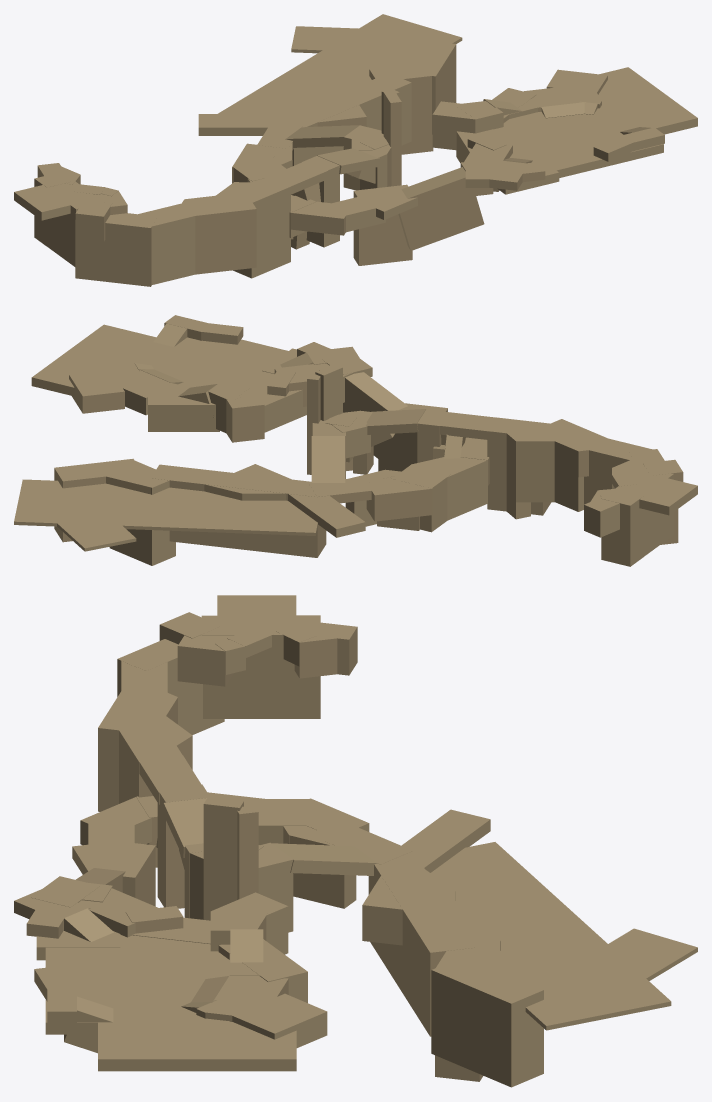
File: p_FloorsEntrance.fbx
The picture shows the model from 3 angles, top to bottom: view 1: azimuth 30°, elevation 25°; view 2: azimuth 150°, elevation 25°; view 3: azimuth 270°, elevation 25°; orthographic projection. The views are drawn at different scales.
Parts seen in each view (by area): view 1: Floor_03__99_, Floor_03__2_, Floor_03__79_, Floor_03__81_, Floor_03__54_, Floor_03__59_, Floor_03__39_, Floor_03__78_, Floor_03__80_, Floor_03__61_, Floor_03__73_, Floor_03__74_ (+34 smaller); view 2: Floor_03__99_, Floor_03__59_, Floor_03__2_, Floor_03__39_, Floor_03__90_, Floor_03__79_, Floor_03__35_, Floor_03__78_, Floor_03__57_, Floor_03__84_, Floor_03__56_, Floor_03__73_ (+42 smaller); view 3: Floor_03__99_, Floor_03__74_, Floor_03__2_, Floor_03__39_, Floor_03__59_, Floor_03__82_, Floor_03__79_, Floor_03__114_, Floor_03__81_, Floor_03__110_, Floor_03__72_, Floor_03__62_ (+43 smaller).
Part boxes in pixels (<box>): Floor_03__99_: <box>218,14,462,113</box>; Floor_03__2_: <box>497,100,663,177</box>; Floor_03__79_: <box>184,193,256,274</box>; Floor_03__81_: <box>75,213,157,286</box>; Floor_03__54_: <box>398,167,484,250</box>; Floor_03__59_: <box>272,73,411,165</box>; Floor_03__39_: <box>598,67,697,134</box>; Floor_03__78_: <box>230,177,290,278</box>; Floor_03__80_: <box>138,202,201,284</box>; Floor_03__61_: <box>353,184,412,265</box>; Floor_03__73_: <box>369,62,433,154</box>; Floor_03__74_: <box>410,40,456,134</box>; Floor_03__99_: <box>14,479,317,535</box>; Floor_03__59_: <box>151,464,326,557</box>; Floor_03__2_: <box>120,337,288,387</box>; Floor_03__39_: <box>31,324,156,396</box>; Floor_03__90_: <box>516,430,555,502</box>; Floor_03__79_: <box>547,419,607,511</box>; Floor_03__35_: <box>148,390,219,431</box>; Floor_03__78_: <box>487,417,551,515</box>; Floor_03__57_: <box>366,478,432,521</box>; Floor_03__84_: <box>601,489,642,566</box>; Floor_03__56_: <box>425,457,487,520</box>; Floor_03__73_: <box>109,460,175,565</box>; Floor_03__99_: <box>430,842,671,1030</box>; Floor_03__74_: <box>431,956,543,1087</box>; Floor_03__2_: <box>45,947,230,1034</box>; Floor_03__39_: <box>98,1022,296,1071</box>; Floor_03__59_: <box>368,851,474,1036</box>; Floor_03__82_: <box>201,615,284,718</box>; Floor_03__79_: <box>98,691,177,811</box>; Floor_03__114_: <box>203,797,243,920</box>; Floor_03__81_: <box>117,639,224,734</box>; Floor_03__110_: <box>232,993,327,1047</box>; Floor_03__72_: <box>401,809,490,872</box>; Floor_03__62_: <box>157,784,210,908</box>.
Size of the model in its own units: 7671 by 1625 by 5182.
